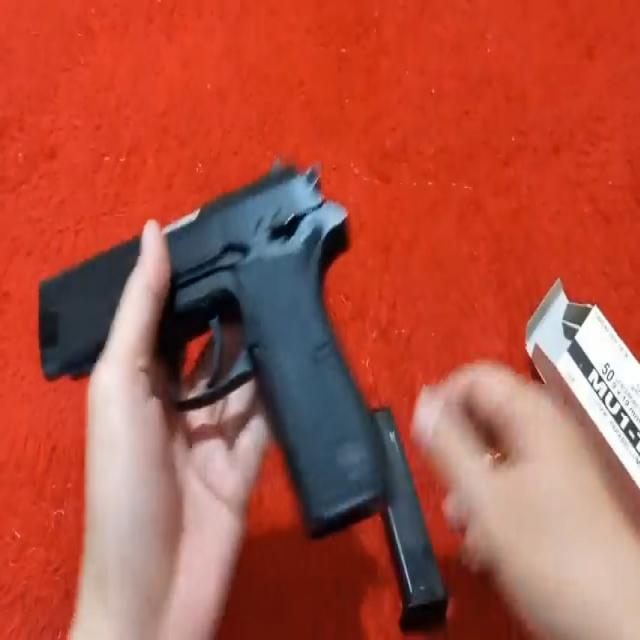handgun: (34, 155, 408, 561)
